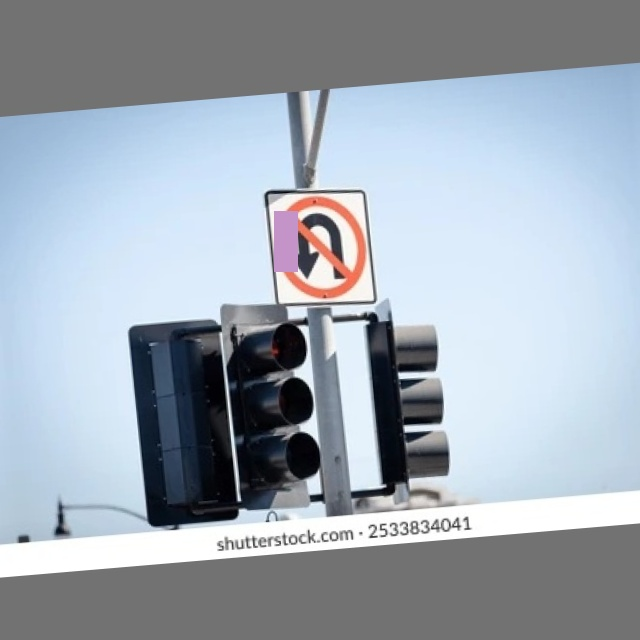U_Turn_Prohibited: (267, 183, 381, 307)
